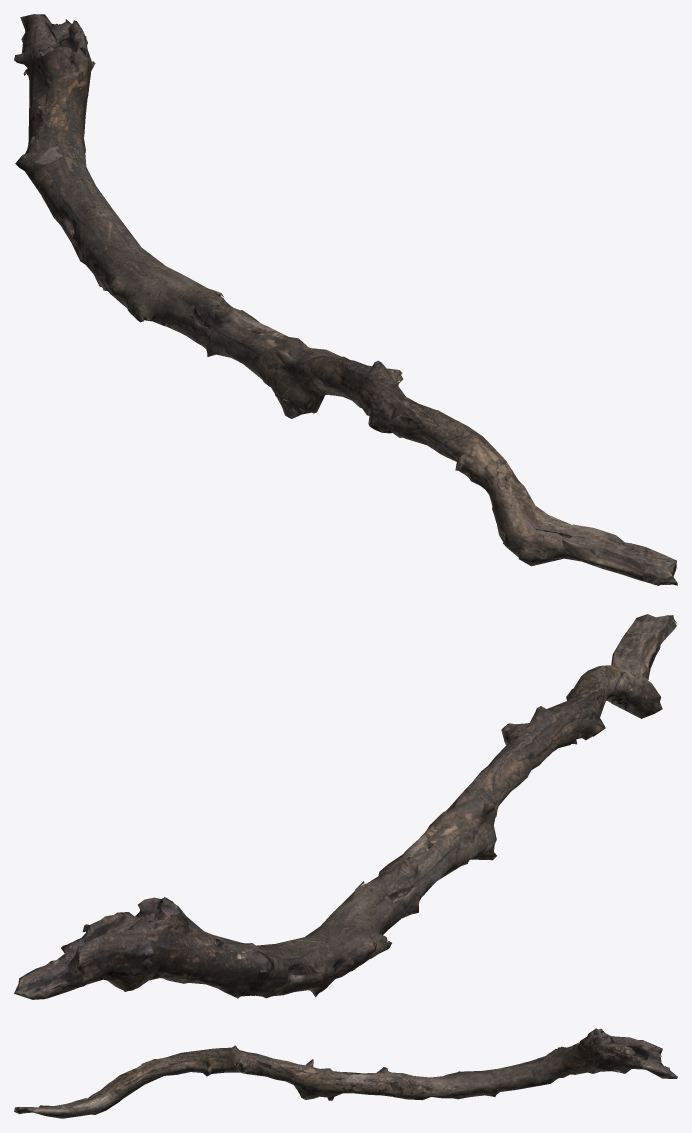
Rendered from dry_branches_medium_01_b.glb.
3 renders of one model, top to bottom at view 1: azimuth 30°, elevation 25°; view 2: azimuth 150°, elevation 25°; view 3: azimuth 270°, elevation 25°, orthographic. The views are drawn at different scales.
Visible parts, largest first — view 1: dry_branches_medium_01_b; view 2: dry_branches_medium_01_b; view 3: dry_branches_medium_01_b.
Part boxes in pixels (x1=…): dry_branches_medium_01_b: x1=14, y1=14, x2=677, y2=585; dry_branches_medium_01_b: x1=14, y1=614, x2=676, y2=999; dry_branches_medium_01_b: x1=14, y1=1028, x2=677, y2=1118.
Size of the model in its own units: 0.1513 by 0.1419 by 1.04.
1 material, 1 textured.
